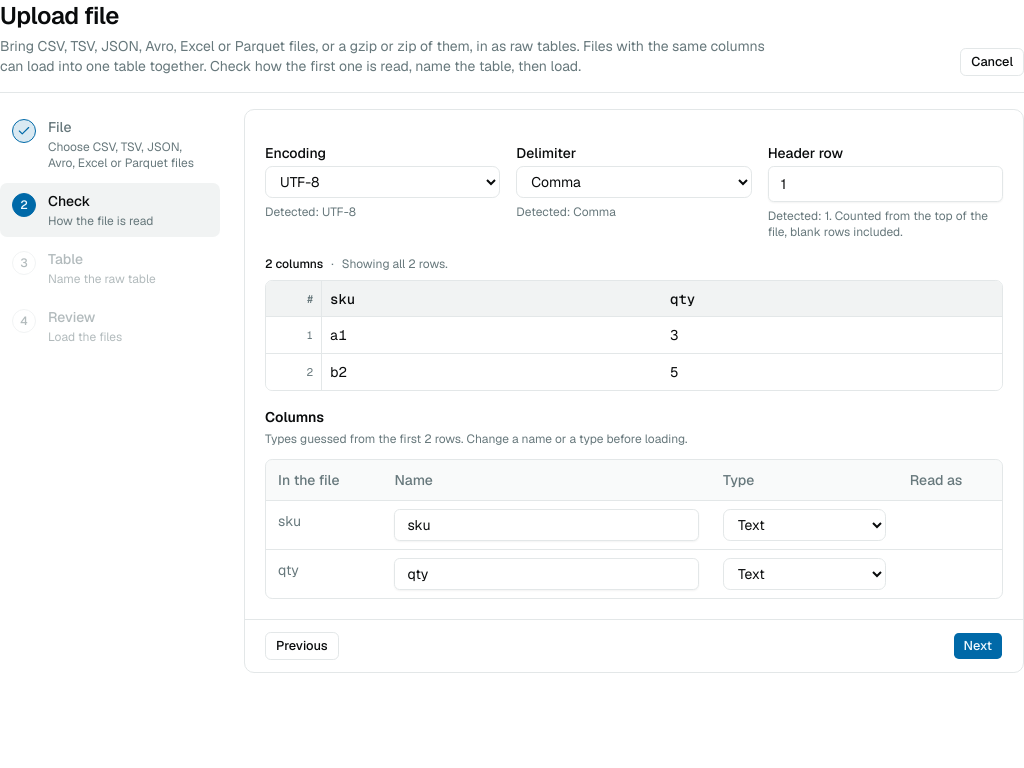
Test: UploadFilePage, Table step, folders (DATA-35) › shows the API's sentence when a folder is refused, and keeps the dialog open
The width and height of the screenshot is (1024, 768).
Check: the dropdown labelled "Encoding" is shown, box top-left (265, 166), bottom-right (500, 198)
Click the button "Next": click(978, 646) top-left (952, 632), bottom-right (1003, 660)
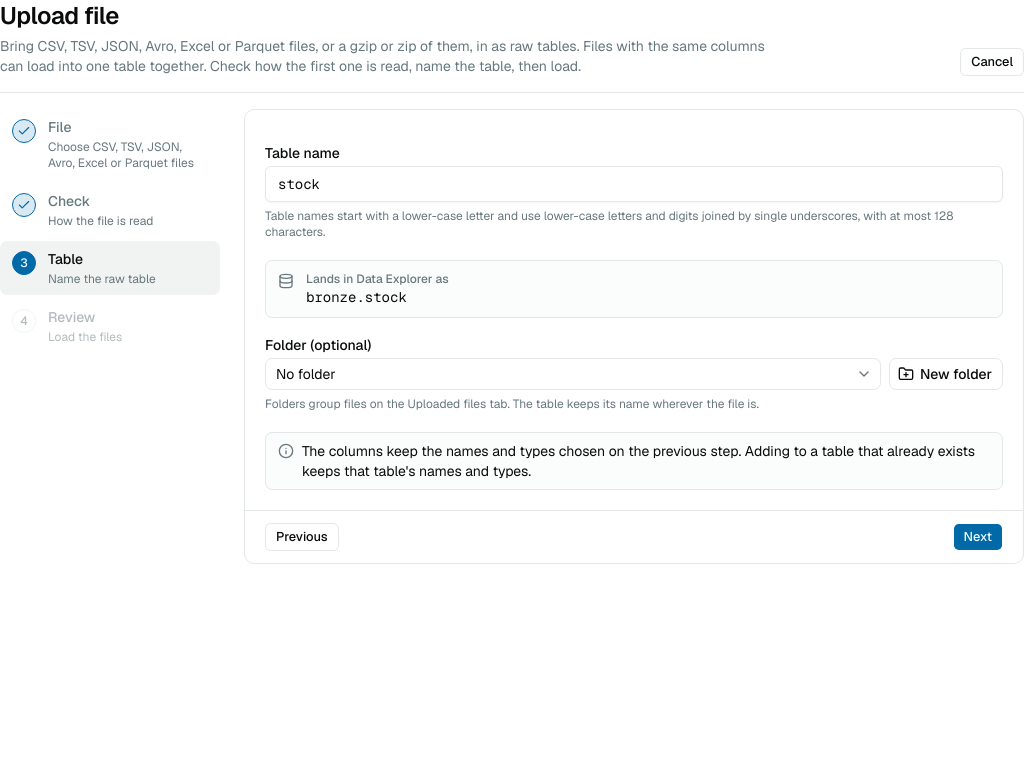
Check: the field labelled "Table name" is shown, box top-left (265, 166), bottom-right (1003, 202)
Click the button "New folder": click(946, 374) top-left (889, 358), bottom-right (1003, 390)
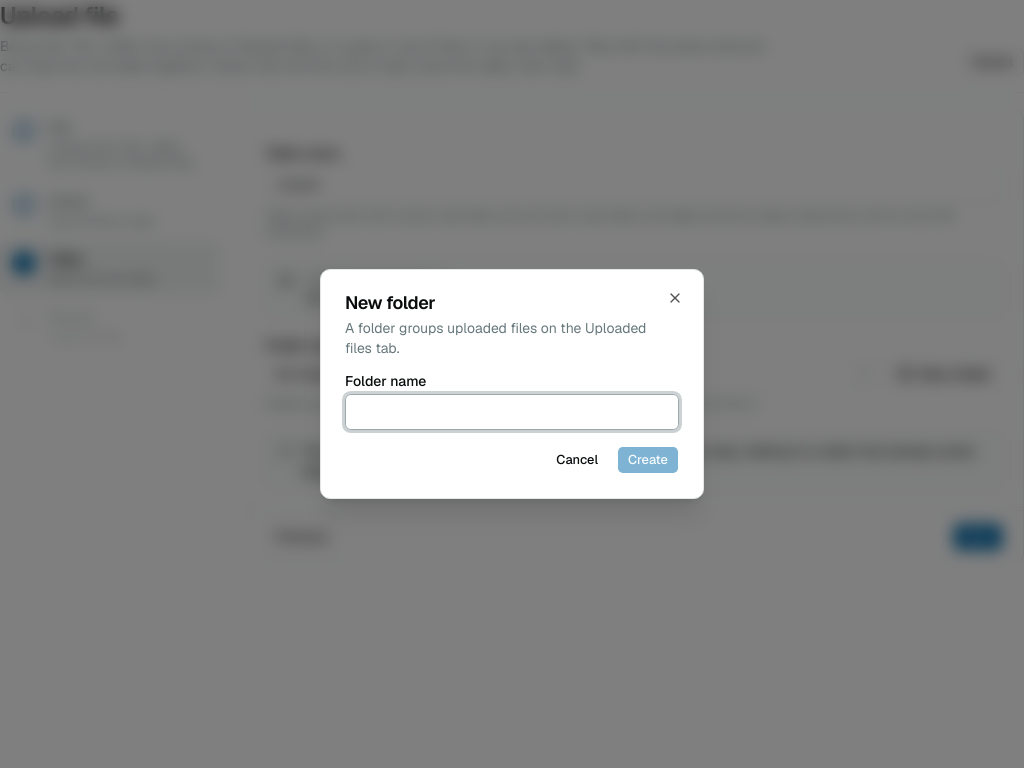
Check: the field labelled "Folder name" is shown
In the field labelled "Folder name": (512, 412) top-left (345, 394), bottom-right (679, 430), type "Sales"
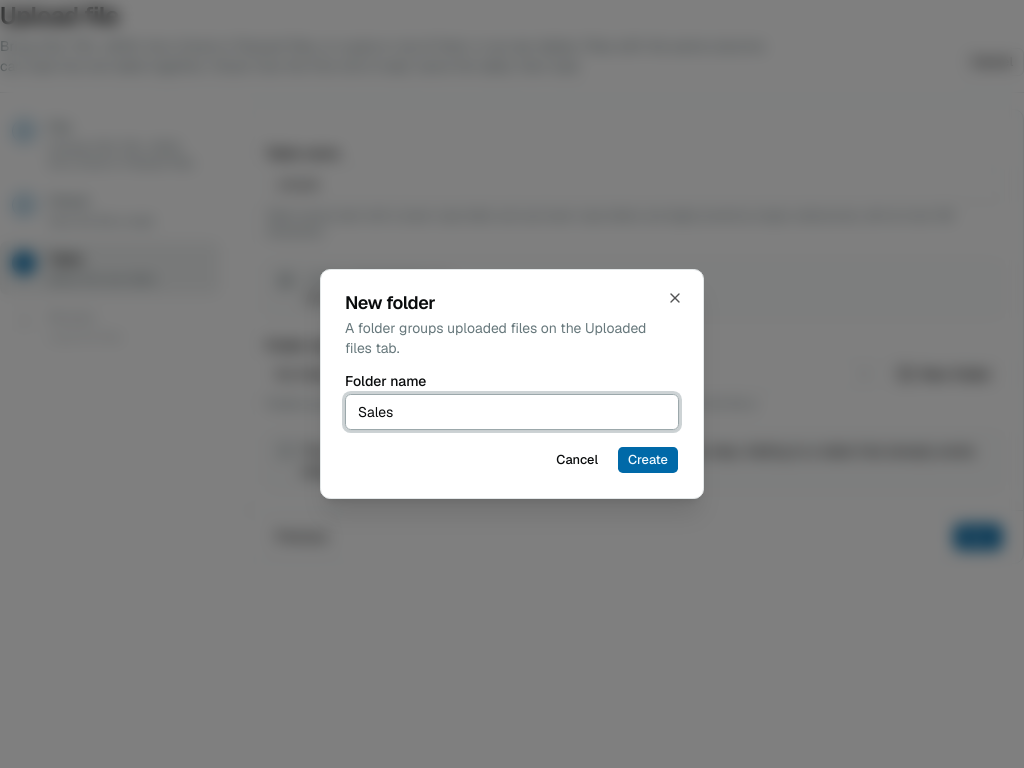
Click the button "Create": click(648, 460) top-left (617, 446), bottom-right (679, 474)
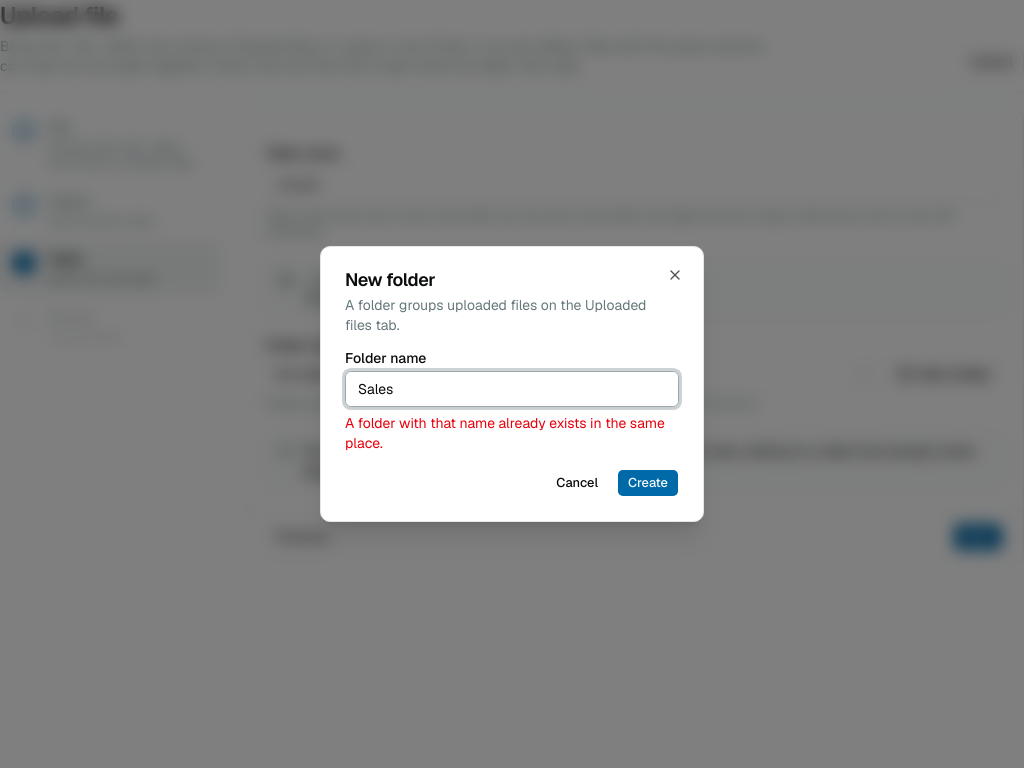
Check: the message reads "A folder with that name already exists in the same place.", box top-left (345, 414), bottom-right (665, 452)
